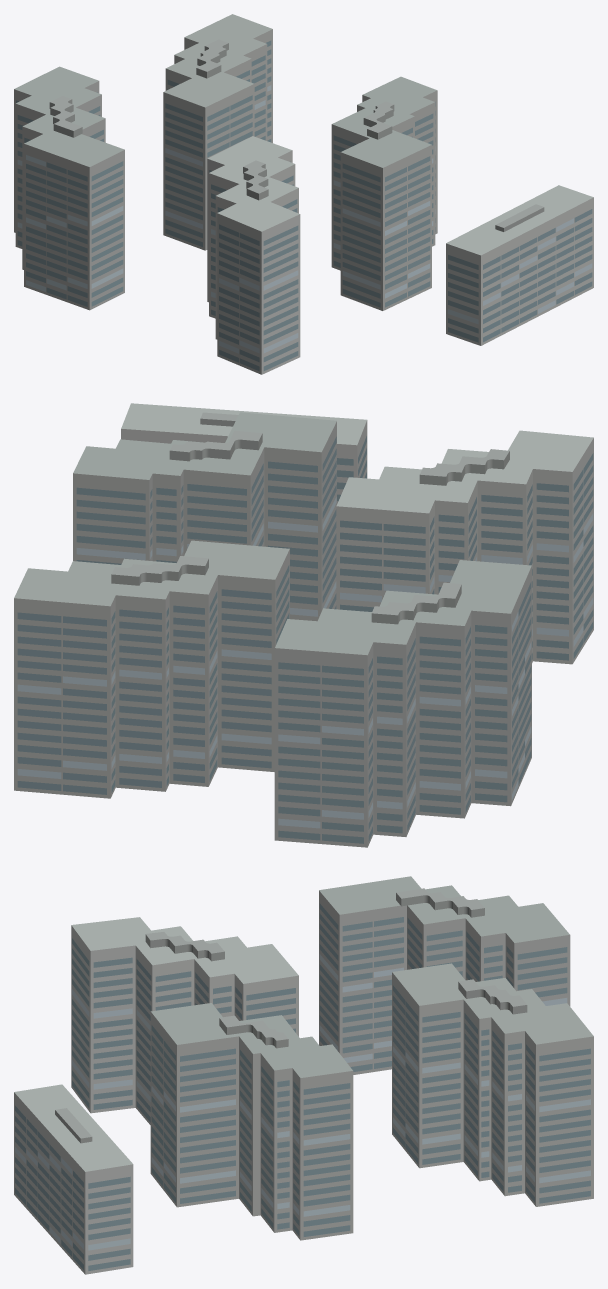
File: apt-a13501001.glb
3 renders of one model, top to bottom at view 1: azimuth 30°, elevation 25°; view 2: azimuth 150°, elevation 25°; view 3: azimuth 270°, elevation 25°, orthographic. The views are drawn at different scales.
Visible parts, largest first — view 1: apt-a13501001; view 2: apt-a13501001; view 3: apt-a13501001.
Boxes of the visible parts, x1,y1,x2,y2 form: apt-a13501001: [14, 14, 593, 374]; apt-a13501001: [14, 403, 593, 847]; apt-a13501001: [14, 876, 593, 1274].
Bounding box in the file's own units: 146 × 49 × 151.
